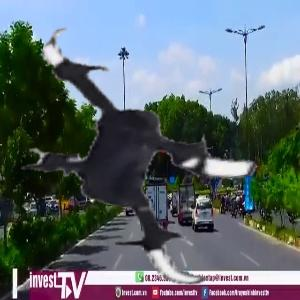drone: (1, 6, 296, 300)
